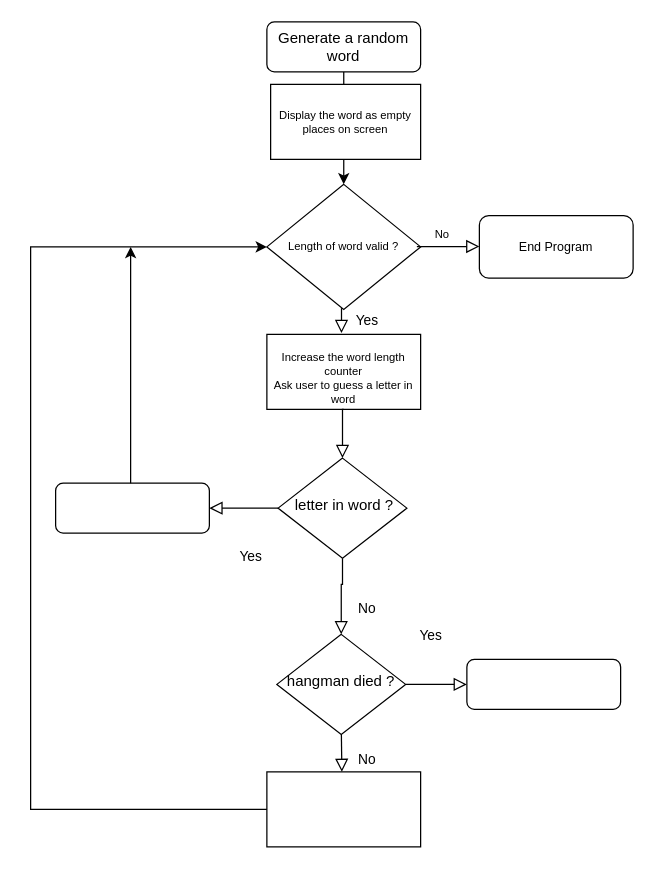
Image size: 655x869. Some labels were removed from this diagram. The shapes that lost their labels are listed below. From the top down, each one's box as (x1, y1, x2, y2) in pixels, then its label:
(54, 482, 209, 533): Display the letter in all positions within word
(466, 658, 621, 709): End the game
(266, 771, 421, 847): Decrease the hangman life
